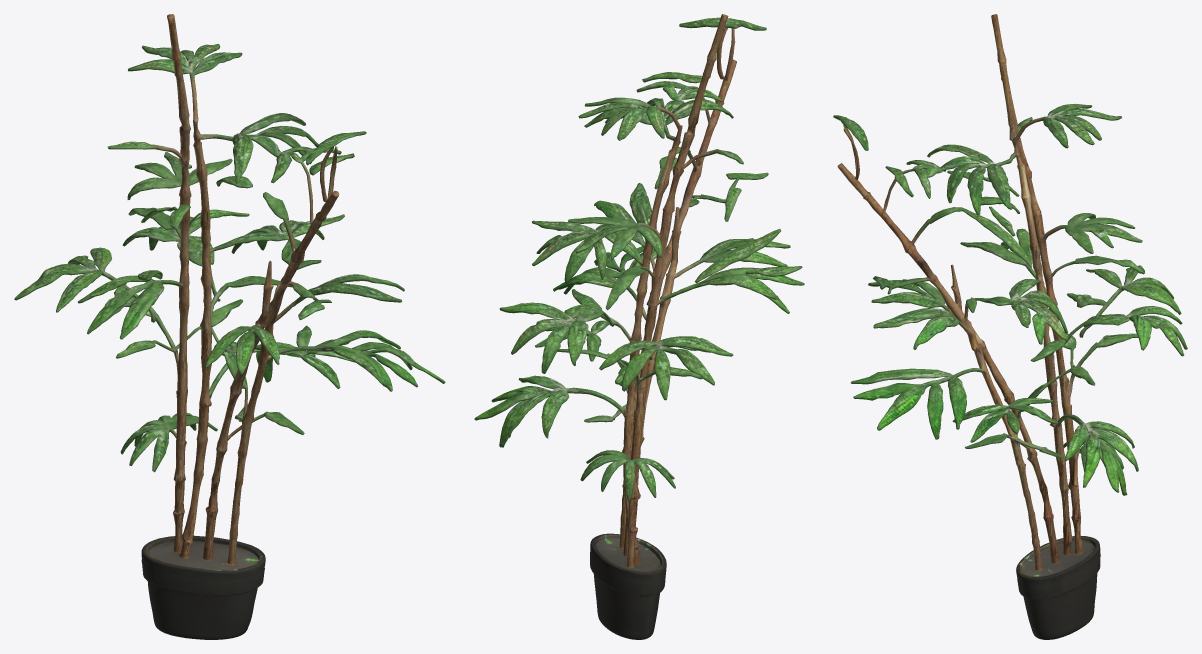
File: tre.glb
The picture shows the model from 3 angles, left to right: view 1: azimuth 30°, elevation 25°; view 2: azimuth 150°, elevation 25°; view 3: azimuth 270°, elevation 25°; orthographic projection. The views are drawn at different scales.
Parts seen in each view (by area): view 1: tripo_node_34eb99c7-325d-431d-9361-aecd672e43a2; view 2: tripo_node_34eb99c7-325d-431d-9361-aecd672e43a2; view 3: tripo_node_34eb99c7-325d-431d-9361-aecd672e43a2.
Boxes of the visible parts, <box> form: tripo_node_34eb99c7-325d-431d-9361-aecd672e43a2: <box>14,14,445,639</box>; tripo_node_34eb99c7-325d-431d-9361-aecd672e43a2: <box>474,14,804,639</box>; tripo_node_34eb99c7-325d-431d-9361-aecd672e43a2: <box>833,14,1187,639</box>.
Size of the model in its own units: 0.4631 by 1 by 0.552.
1 material, 1 textured.
